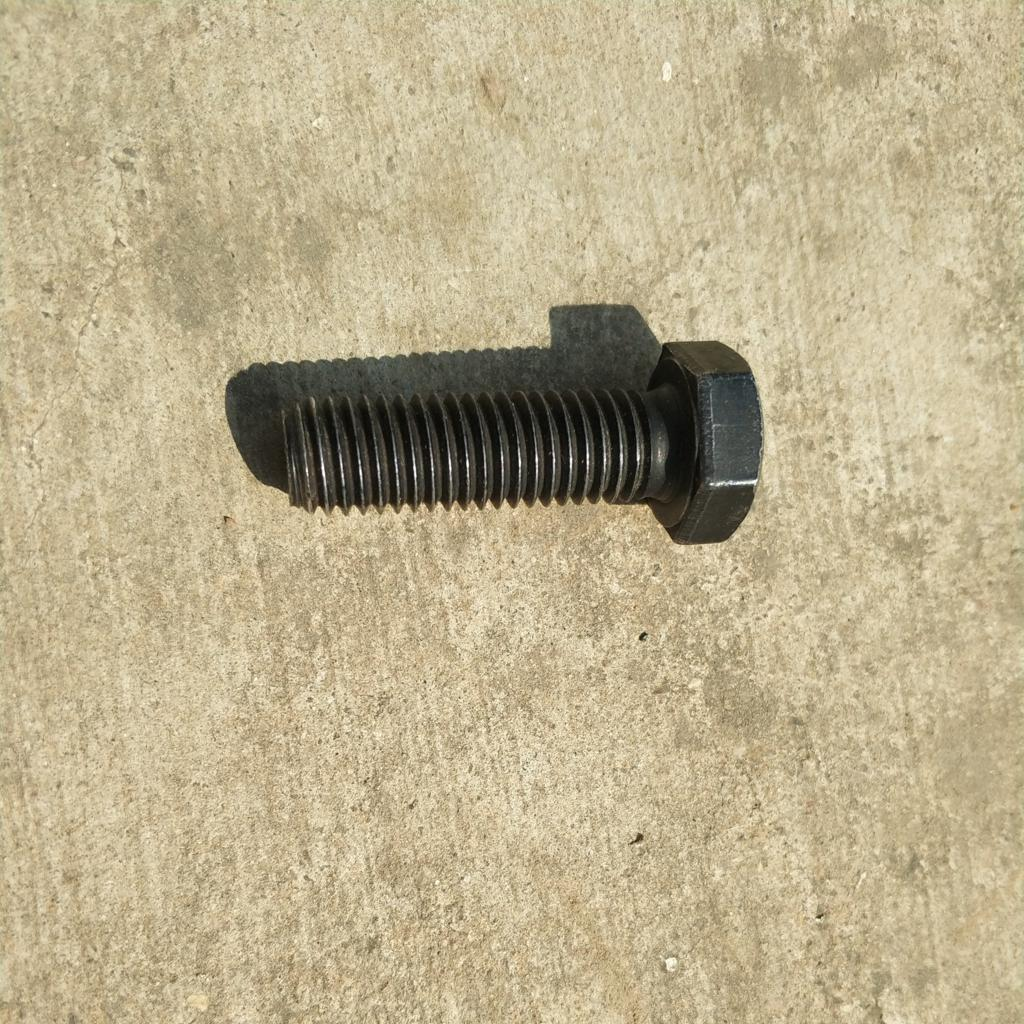screwtype2black: (280, 331, 766, 557)
